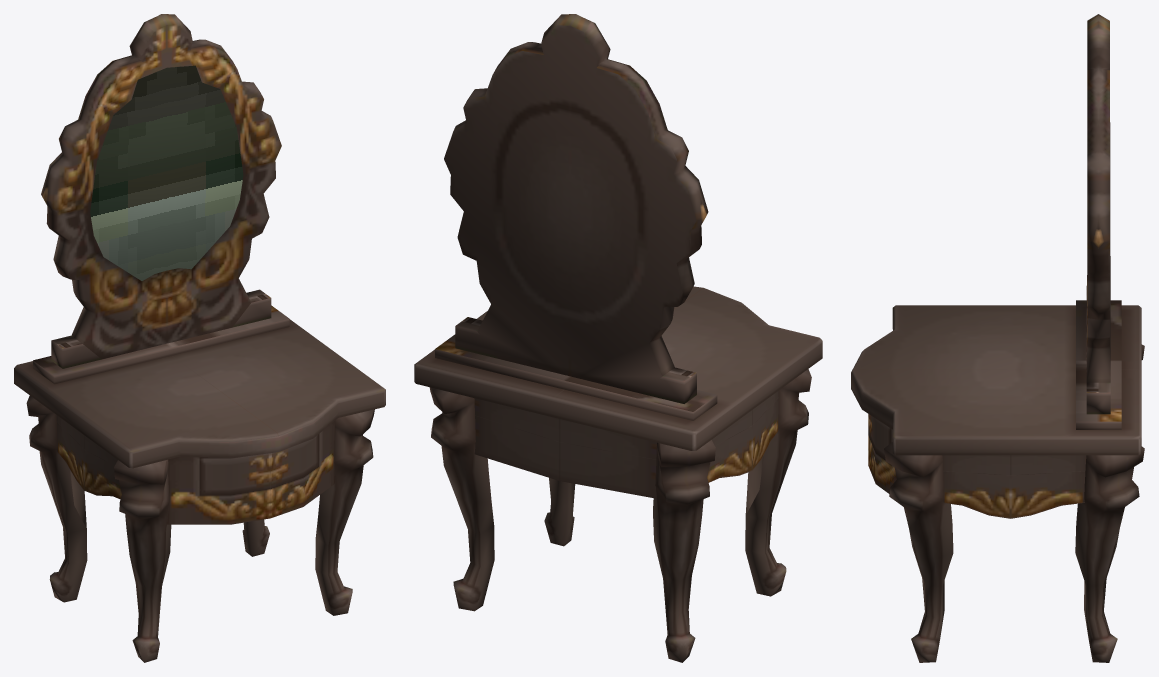
The model's file is rmk_rcc_dresser.dae.
3 views of the same model, side by side, from view 1: azimuth 30°, elevation 25°; view 2: azimuth 150°, elevation 25°; view 3: azimuth 270°, elevation 25° (orthographic). The views are drawn at different scales.
Visible parts, largest first — view 1: rmk_rcc_dresser; view 2: rmk_rcc_dresser; view 3: rmk_rcc_dresser.
Part boxes in pixels (box(x1,y1,x2,y2)): rmk_rcc_dresser: box(14, 14, 385, 662); rmk_rcc_dresser: box(414, 14, 822, 662); rmk_rcc_dresser: box(851, 14, 1144, 662).
Size of the model in its own units: 25.25 by 51.77 by 23.23.
Materials: 2 (2 with a texture image).
